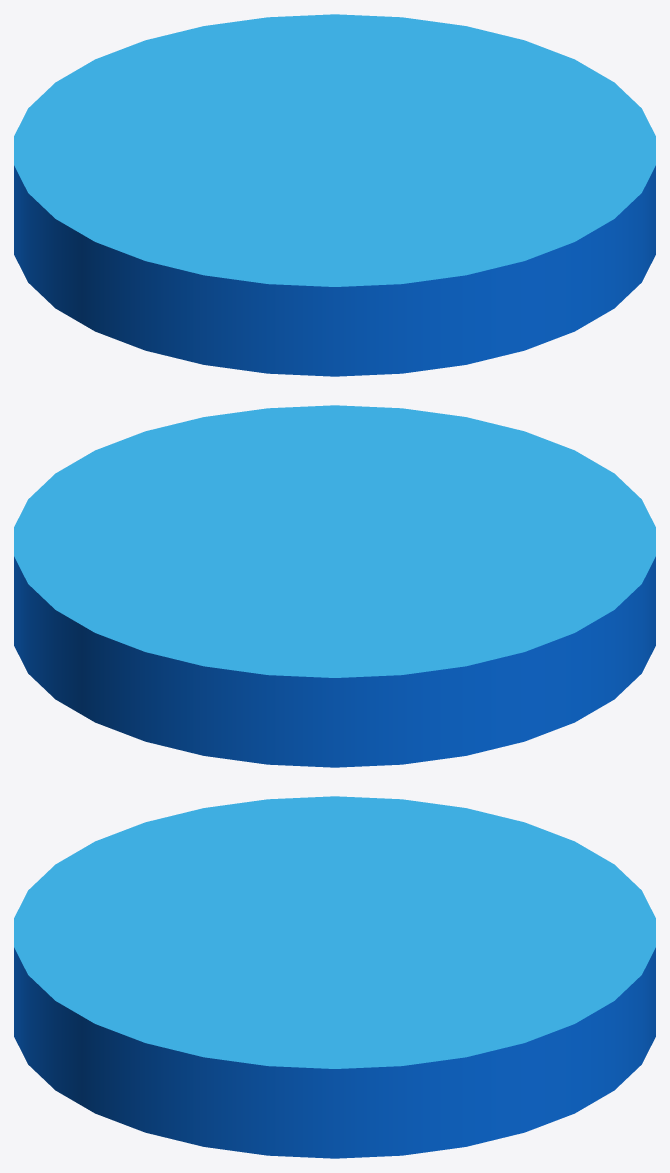
File: CirclePlatform.FBX
The picture shows the model from 3 angles, top to bottom: view 1: azimuth 30°, elevation 25°; view 2: azimuth 150°, elevation 25°; view 3: azimuth 270°, elevation 25°; orthographic projection.
Parts seen in each view (by area): view 1: Cylinder001; view 2: Cylinder001; view 3: Cylinder001.
Part boxes in pixels (x1,y1,x2,y2): Cylinder001: (14, 14, 655, 376); Cylinder001: (14, 405, 655, 767); Cylinder001: (14, 796, 655, 1158).
Size of the model in its own units: 280 by 42.88 by 278.
